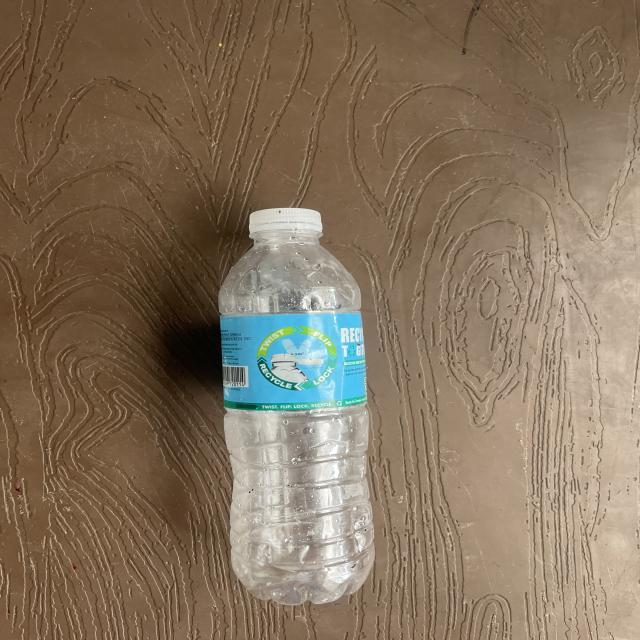REJECT: (24, 219, 415, 614)
